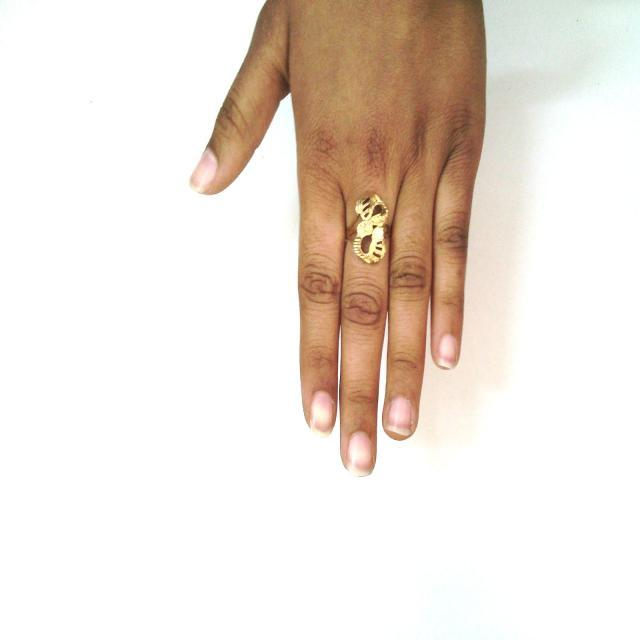Fingernail: (348, 432, 373, 476), (191, 148, 216, 188), (310, 392, 333, 434), (386, 399, 413, 434), (437, 335, 457, 368)
